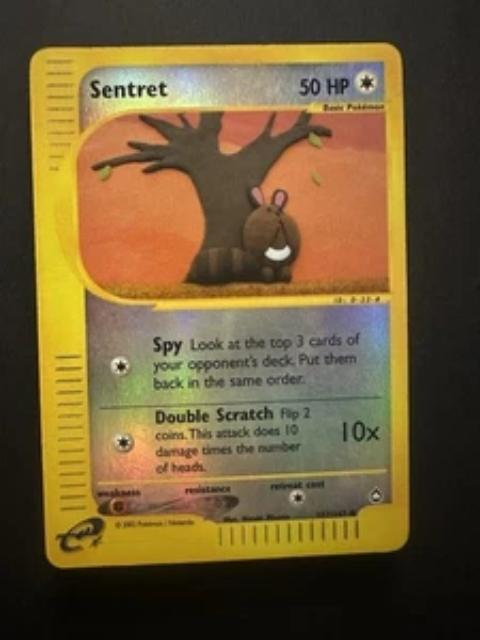Card: (23, 37, 416, 574)
Name: (78, 73, 184, 108)
